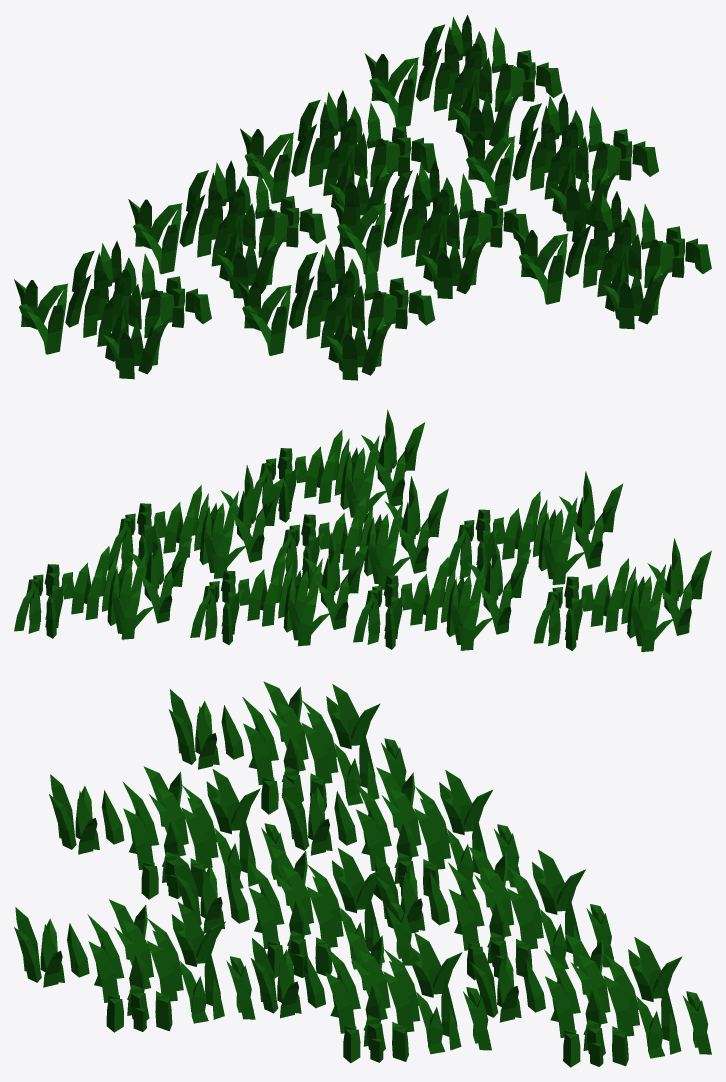
Rendered from grass.obj.
3 renders of one model, top to bottom at view 1: azimuth 30°, elevation 25°; view 2: azimuth 150°, elevation 25°; view 3: azimuth 270°, elevation 25°, orthographic. The views are drawn at different scales.
Visible parts, largest first — view 1: GrassBunch7, GrassBunch7.004, GrassBunch7.008, GrassBunch7.002, GrassBunch7.003, GrassBunch7.001, GrassBunch7.006, GrassBunch7.005, GrassBunch4.003, GrassBunch4.005, GrassBunch4.006, GrassBunch4 (+36 smaller); view 2: GrassBunch7.005, GrassBunch7.002, GrassBunch7.008, GrassBunch7.006, GrassBunch7.001, GrassBunch7.003, GrassBunch7.004, GrassBunch7, GrassBunch1.001, GrassBunch1.008, GrassBunch1.002, GrassBunch1.006 (+36 smaller); view 3: GrassBunch7.004, GrassBunch7.001, GrassBunch7.006, GrassBunch7.008, GrassBunch7.005, GrassBunch7, GrassBunch7.003, GrassBunch7.002, GrassBunch4.005, GrassBunch4.003, GrassBunch4.004, GrassBunch4.006 (+36 smaller).
Boxes of the visible parts, bbox=[...] form: GrassBunch7: bbox=[383, 189, 478, 266]; GrassBunch7.004: bbox=[512, 122, 607, 199]; GrassBunch7.008: bbox=[416, 43, 511, 120]; GrassBunch7.002: bbox=[179, 189, 274, 266]; GrassBunch7.003: bbox=[288, 271, 383, 348]; GrassBunch7.001: bbox=[291, 118, 386, 195]; GrassBunch7.006: bbox=[65, 269, 160, 346]; GrassBunch7.005: bbox=[565, 219, 660, 296]; GrassBunch4.003: bbox=[326, 311, 394, 380]; GrassBunch4.005: bbox=[603, 260, 671, 329]; GrassBunch4.006: bbox=[103, 310, 171, 379]; GrassBunch4: bbox=[421, 230, 489, 298]; GrassBunch7.005: bbox=[304, 429, 379, 509]; GrassBunch7.002: bbox=[410, 557, 485, 636]; GrassBunch7.008: bbox=[71, 546, 146, 625]; GrassBunch7.006: bbox=[590, 558, 665, 638]; GrassBunch7.001: bbox=[247, 552, 322, 632]; GrassBunch7.003: bbox=[502, 491, 577, 571]; GrassBunch7.004: bbox=[163, 485, 238, 564]; GrassBunch7: bbox=[328, 496, 402, 576]; GrassBunch1.001: bbox=[190, 586, 243, 644]; GrassBunch1.008: bbox=[14, 580, 67, 638]; GrassBunch1.002: bbox=[353, 591, 406, 649]; GrassBunch1.006: bbox=[533, 592, 587, 650]; GrassBunch7.004: bbox=[324, 945, 420, 1033]; GrassBunch7.001: bbox=[448, 862, 543, 950]; GrassBunch7.006: bbox=[242, 697, 338, 784]; GrassBunch7.008: bbox=[544, 949, 639, 1037]; GrassBunch7.005: bbox=[87, 914, 183, 1002]; GrassBunch7: bbox=[247, 860, 343, 948]; GrassBunch7.003: bbox=[122, 781, 218, 869]; GrassBunch7.002: bbox=[355, 782, 450, 870]; GrassBunch4.005: bbox=[14, 907, 89, 987]; GrassBunch4.003: bbox=[49, 774, 124, 854]; GrassBunch4.004: bbox=[251, 938, 325, 1018]; GrassBunch4.006: bbox=[168, 689, 243, 769].
Bounding box in the file's own units: 11.81 × 1.05 × 10.24.
